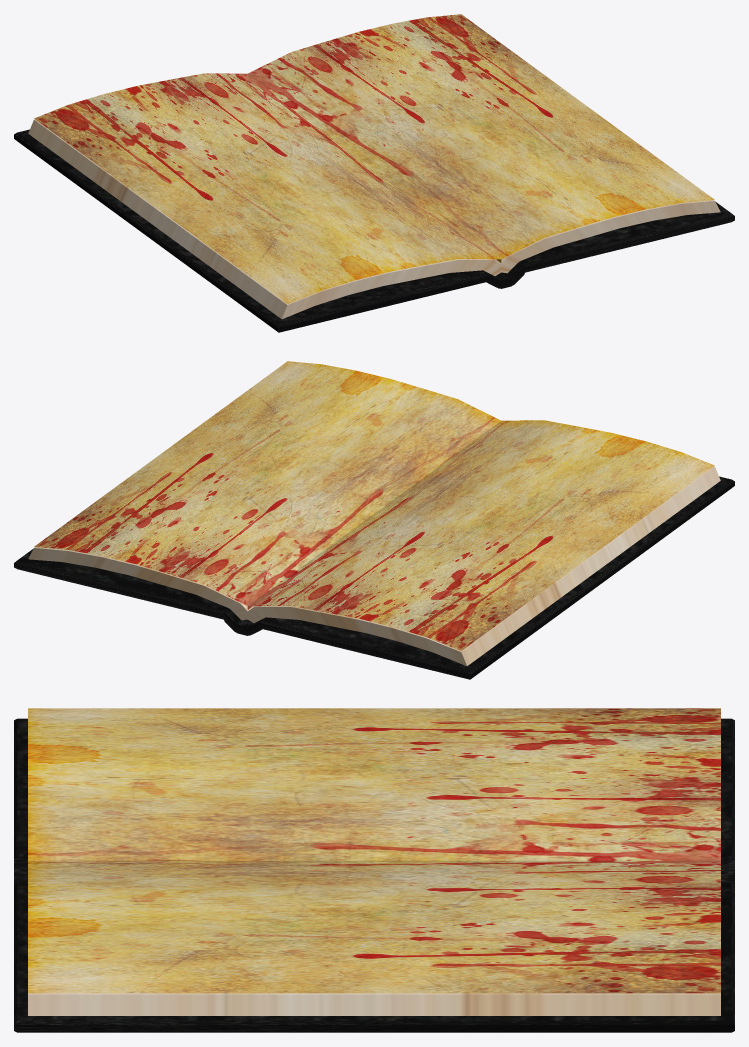
Rendered from Book.fbx.
3 renders of one model, top to bottom at view 1: azimuth 30°, elevation 25°; view 2: azimuth 150°, elevation 25°; view 3: azimuth 270°, elevation 25°, orthographic. The views are drawn at different scales.
Parts seen in each view (by area): view 1: polySurface4; view 2: polySurface4; view 3: polySurface4.
Part boxes in pixels (x1,y1,x2,y2): polySurface4: [14, 14, 734, 332]; polySurface4: [14, 361, 734, 679]; polySurface4: [14, 708, 734, 1032].
Size of the model in its own units: 13.83 by 1.14 by 13.83.
